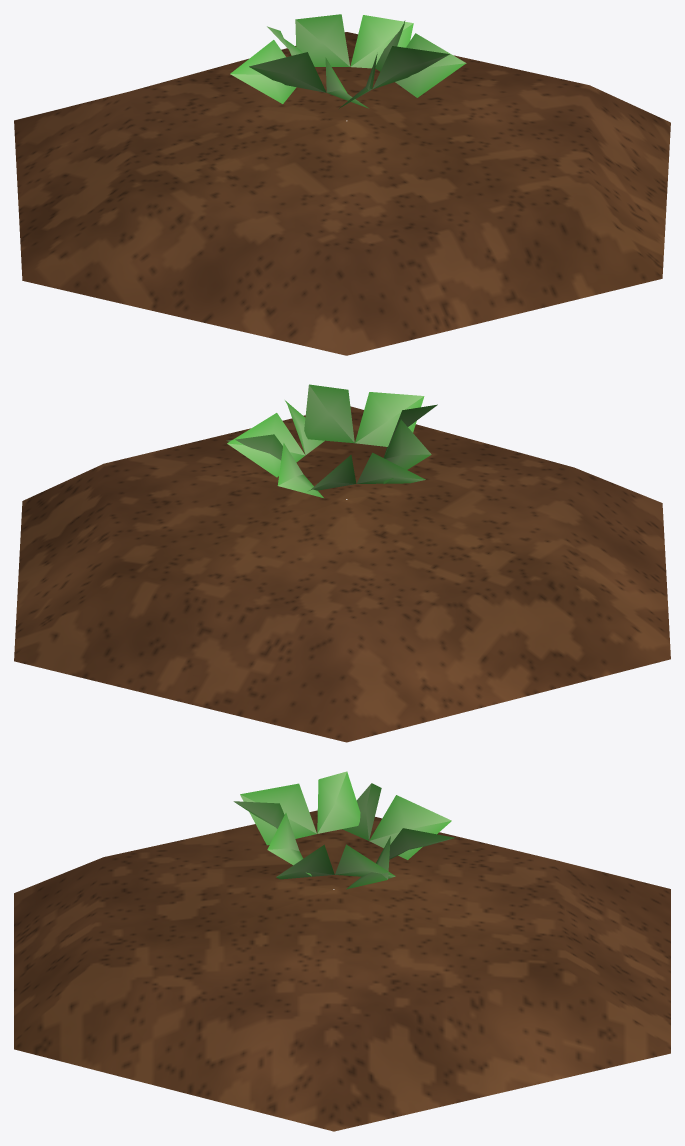
Rendered from plant-carrot-3-far.glb.
3 views of the same model, one above another, from view 1: azimuth 30°, elevation 25°; view 2: azimuth 150°, elevation 25°; view 3: azimuth 270°, elevation 25° (orthographic).
Visible parts, largest first — view 1: plant-carrot-3-far; view 2: plant-carrot-3-far; view 3: plant-carrot-3-far.
Part boxes in pixels (x1,y1,x2,y2): plant-carrot-3-far: (14, 14, 670, 355); plant-carrot-3-far: (14, 384, 670, 742); plant-carrot-3-far: (14, 771, 670, 1131).
Bounding box in the file's own units: 0.84 × 0.2076 × 0.7275.
Materials: 2 (1 with a texture image).
